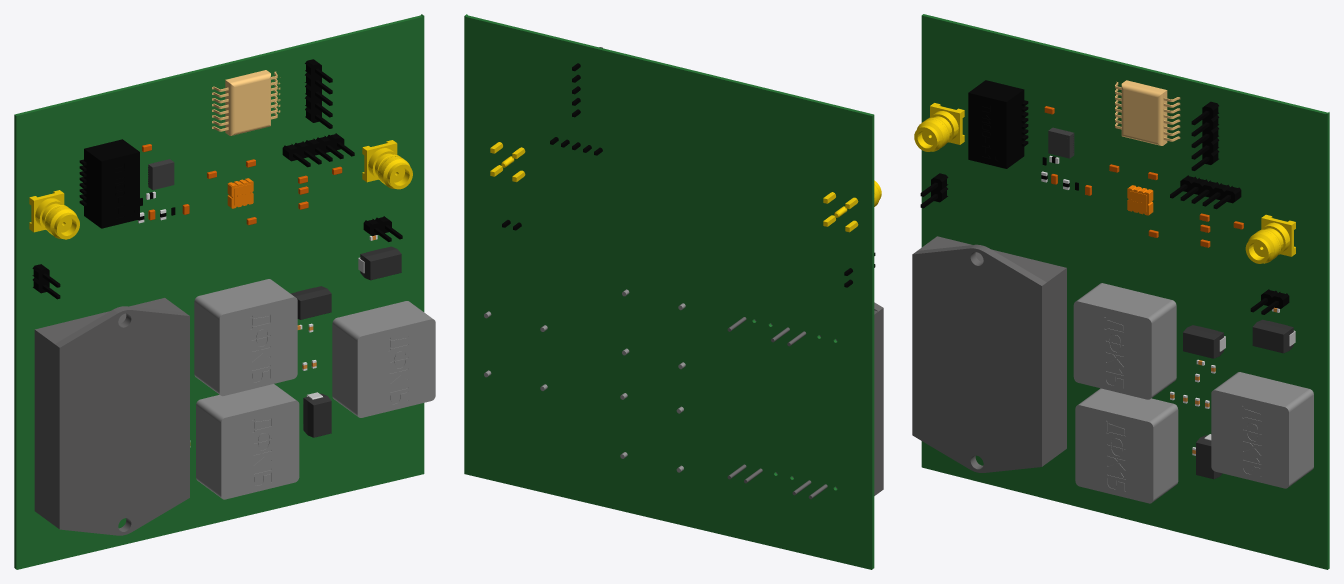
File: PCB2.glb
3 renders of one model, left to right at view 1: azimuth 30°, elevation 25°; view 2: azimuth 150°, elevation 25°; view 3: azimuth 330°, elevation 25°, orthographic.
Parts seen in each view (by area): view 1: Open_CASCADE_STEP_translator_75_311, ̈́ʱ0, Ŕ10_1, Ŕ10_2, Ŕ10, ӌ100-1-1, User_Library-402,16-32, User_Library-SMA_Stehend_Amp_132134RP-1_1, User_Library-SMA_Stehend_Amp_132134RP-1_1_1, Open_CASCADE_STEP_translator_68_811, Open_CASCADE_STEP_translator_68_811_2, Open_CASCADE_STEP_translator_68_811_1 (+2 smaller); view 2: Open_CASCADE_STEP_translator_75_311, ̈́ʱ0, User_Library-SMA_Stehend_Amp_132134RP-1_1_1; view 3: Open_CASCADE_STEP_translator_75_311, ̈́ʱ0, Ŕ10_1, Ŕ10_2, Ŕ10, ӌ100-1-1, User_Library-402,16-32, User_Library-SMA_Stehend_Amp_132134RP-1_1_1, User_Library-SMA_Stehend_Amp_132134RP-1_1, Open_CASCADE_STEP_translator_68_811_2, Open_CASCADE_STEP_translator_68_811_1, User_Library-LFCSP-32_CP-32-26 (+2 smaller).
Boxes of the visible parts, bbox=[...] form: Open_CASCADE_STEP_translator_75_311: bbox=[14, 14, 424, 569]; ̈́ʱ0: bbox=[34, 298, 189, 535]; Ŕ10_1: bbox=[194, 279, 297, 396]; Ŕ10_2: bbox=[332, 301, 435, 417]; Ŕ10: bbox=[196, 384, 299, 499]; ӌ100-1-1: bbox=[79, 139, 139, 228]; User_Library-402,16-32: bbox=[212, 70, 280, 135]; User_Library-SMA_Stehend_Amp_132134RP-1_1: bbox=[362, 140, 412, 189]; User_Library-SMA_Stehend_Amp_132134RP-1_1_1: bbox=[29, 190, 79, 239]; Open_CASCADE_STEP_translator_68_811: bbox=[303, 393, 331, 437]; Open_CASCADE_STEP_translator_68_811_2: bbox=[360, 246, 401, 280]; Open_CASCADE_STEP_translator_68_811_1: bbox=[291, 286, 331, 319]; Open_CASCADE_STEP_translator_75_311: bbox=[464, 14, 874, 569]; ̈́ʱ0: bbox=[727, 302, 883, 499]; User_Library-SMA_Stehend_Amp_132134RP-1_1_1: bbox=[823, 180, 881, 232]; Open_CASCADE_STEP_translator_75_311: bbox=[921, 14, 1329, 569]; ̈́ʱ0: bbox=[912, 236, 1066, 472]; Ŕ10_1: bbox=[1073, 283, 1176, 399]; Ŕ10_2: bbox=[1211, 372, 1313, 488]; Ŕ10: bbox=[1075, 388, 1178, 503]; ӌ100-1-1: bbox=[968, 80, 1028, 168]; User_Library-402,16-32: bbox=[1115, 80, 1180, 145]; User_Library-SMA_Stehend_Amp_132134RP-1_1_1: bbox=[914, 103, 964, 151]; User_Library-SMA_Stehend_Amp_132134RP-1_1: bbox=[1245, 214, 1295, 263]; Open_CASCADE_STEP_translator_68_811_2: bbox=[1252, 319, 1293, 353]; Open_CASCADE_STEP_translator_68_811_1: bbox=[1183, 325, 1223, 358]; User_Library-LFCSP-32_CP-32-26: bbox=[1048, 127, 1074, 158].
Bounding box in the file's own units: 93.98 × 101 × 17.5.
